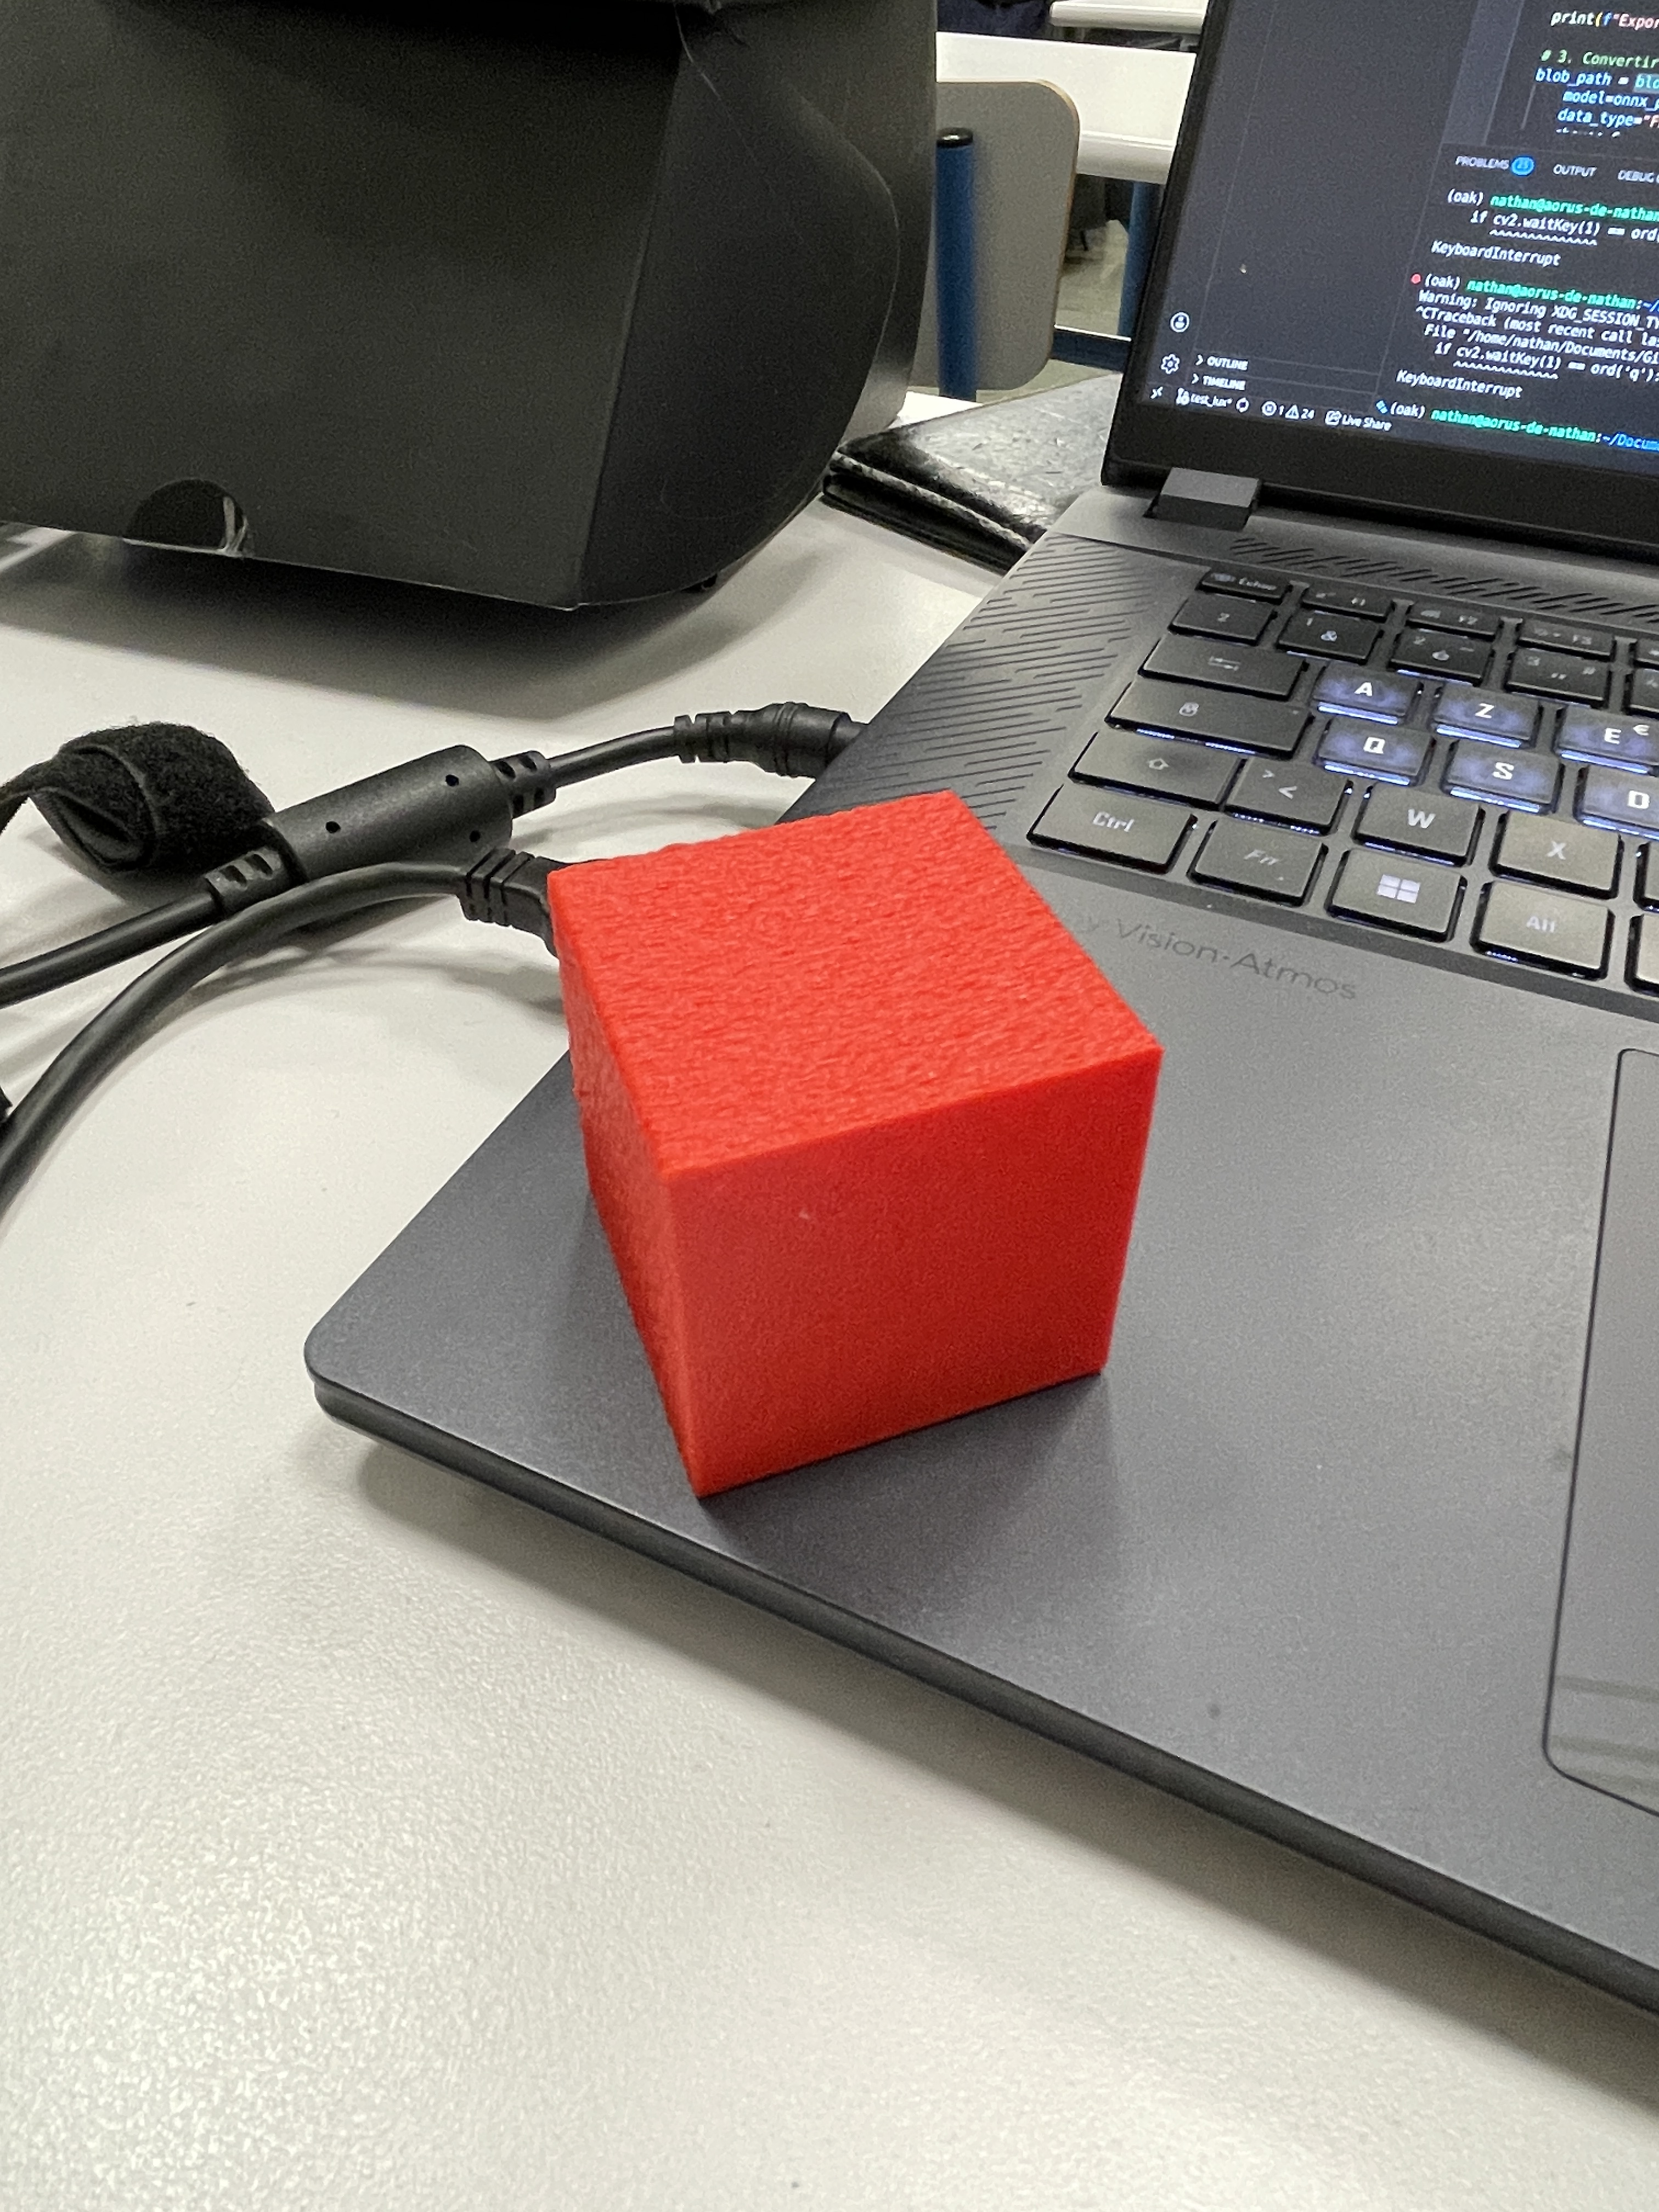red_cube: (543, 789, 1163, 1504)
